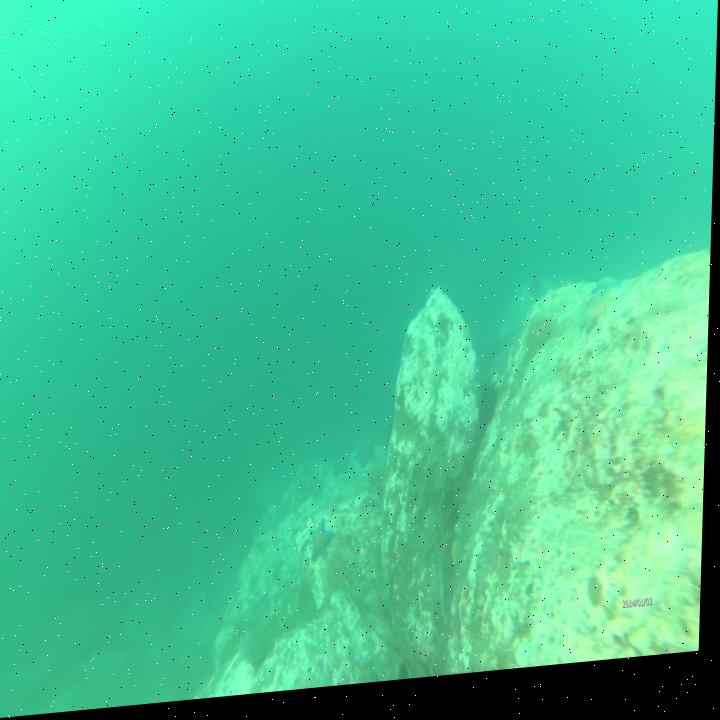echinus: (327, 543, 358, 607)
starfish: (313, 523, 335, 574), (355, 439, 382, 478)
